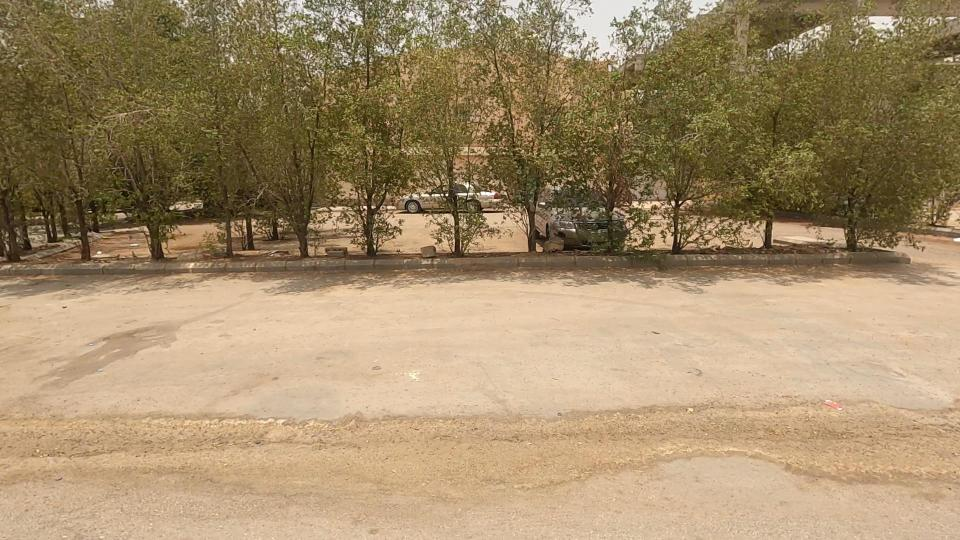POTHOLES: (532, 352, 886, 508), (310, 361, 561, 515), (116, 365, 366, 494)
